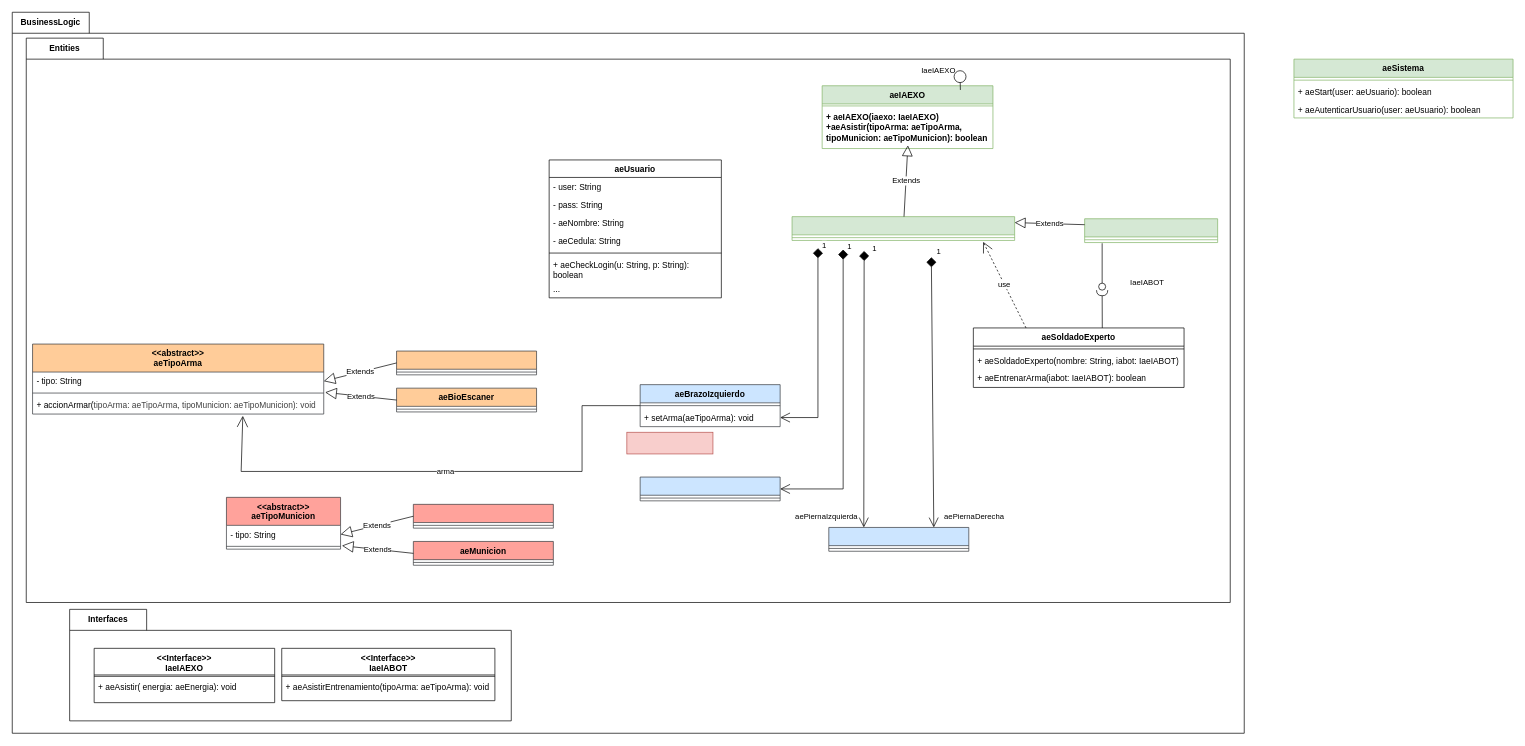
Image size: 1525x746. Some labels were removed from this diagram. The centre of each missing label's shape, as x and y in pixels:
aeBioSensor: the point at 466,362
aeBrazoDerecho: the point at 709,488
aeEnergia: the point at 483,516
aeExobot: the point at 903,228
aeExoMedico: the point at 1151,230
aePierna: the point at 898,539
REFACTORIZACION: the point at 669,443
